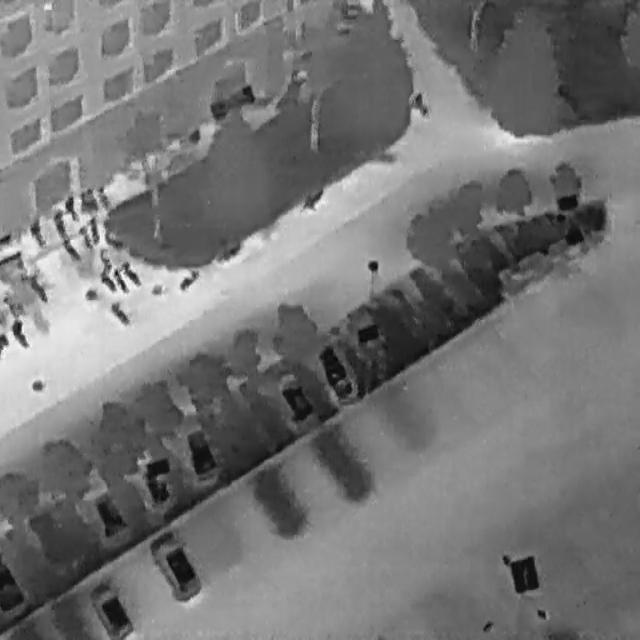Bicycle: (294, 181, 329, 219), (6, 313, 36, 355), (211, 236, 245, 272), (72, 182, 101, 222), (104, 295, 134, 331), (406, 88, 436, 122), (115, 255, 144, 290), (23, 270, 51, 306), (174, 262, 203, 294), (58, 190, 82, 228), (46, 204, 70, 241), (25, 216, 49, 252), (107, 262, 131, 296), (94, 265, 120, 296), (92, 179, 114, 215), (74, 221, 95, 255), (60, 234, 83, 265), (0, 289, 22, 321), (101, 225, 126, 251), (95, 242, 115, 274), (84, 213, 101, 245), (0, 330, 9, 358)
Car: (141, 518, 208, 612), (170, 414, 223, 495), (306, 330, 358, 410), (266, 360, 320, 435), (125, 450, 175, 519), (81, 479, 130, 546), (88, 580, 133, 636), (0, 548, 26, 614)
